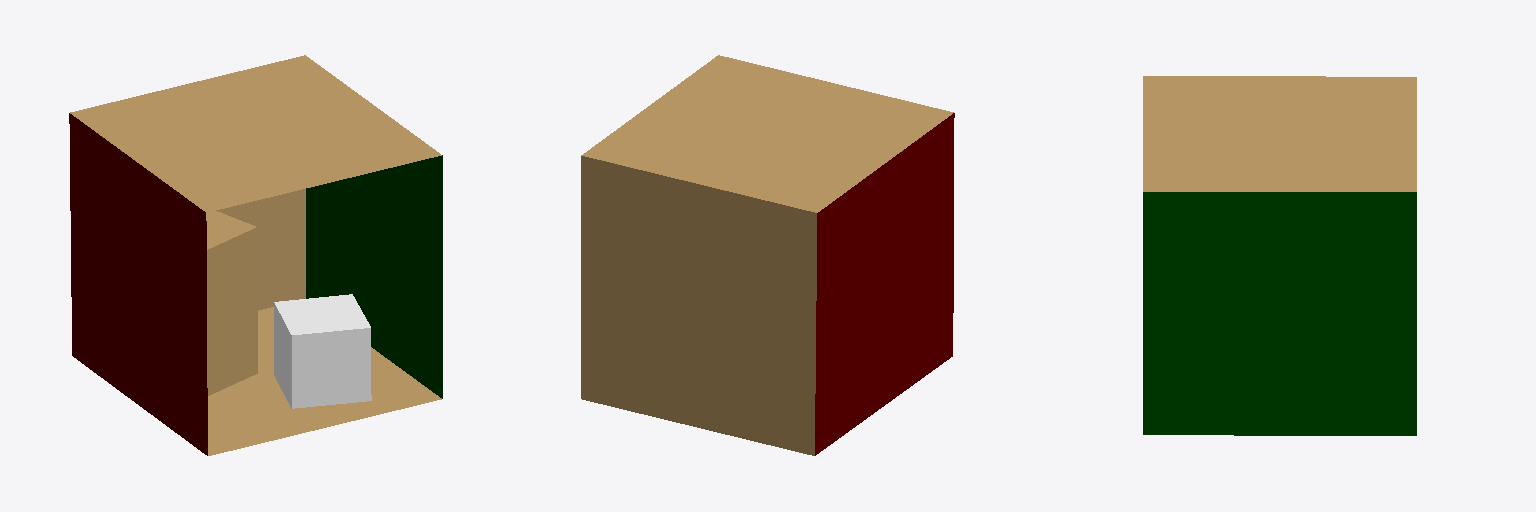
3 views of the same model, side by side, from view 1: azimuth 30°, elevation 25°; view 2: azimuth 150°, elevation 25°; view 3: azimuth 270°, elevation 25° (orthographic).
Parts seen in each view (by area): view 1: left_wall, ceiling, right_wall, floor, short_box, tall_box, back_wall; view 2: back_wall, left_wall, ceiling; view 3: right_wall, ceiling.
Boxes of the visible parts, box(x1,y1,x2,y2) form: left_wall: box(69, 113, 207, 455); ceiling: box(70, 55, 441, 212); right_wall: box(306, 155, 442, 398); floor: box(208, 307, 441, 455); short_box: box(274, 294, 371, 408); tall_box: box(206, 211, 257, 395); back_wall: box(216, 189, 305, 310); back_wall: box(581, 156, 816, 455); left_wall: box(815, 113, 954, 455); ceiling: box(581, 55, 953, 212); right_wall: box(1143, 192, 1416, 435); ceiling: box(1143, 76, 1416, 191).
Size of the model in its own units: 5.56 by 5.49 by 5.6.